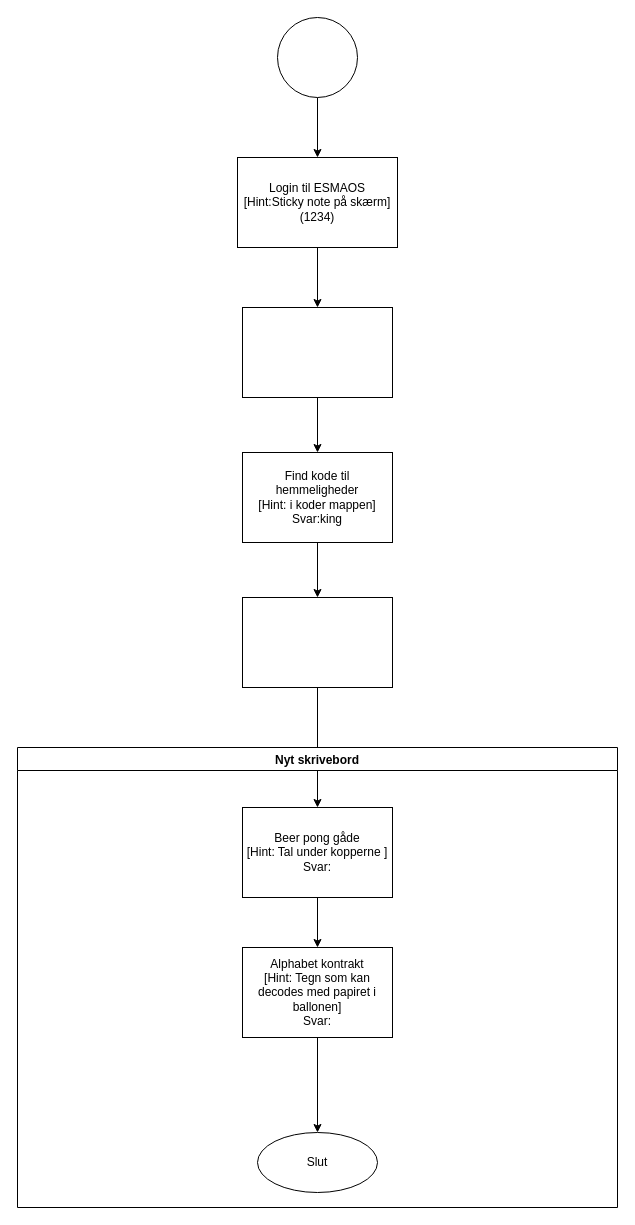
Image size: 635x1225. Some labels were removed from this diagram. The shapes that lost their labels are listed below. From the top down, each one's centre as x and y in pixels, then its label:
At point 317,57: "Start".
At point 317,352: "Lydklip [Hint:Under papvinen ] Svar:esmato".
At point 317,642: "Amongus minigame [Hint: Vinyler med tal ] Svar:".
